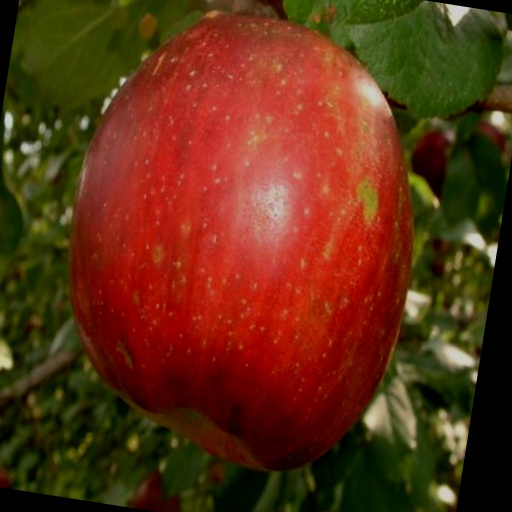fruit: (70, 14, 412, 470), (412, 131, 450, 196), (133, 472, 164, 511), (478, 120, 506, 152), (207, 462, 225, 486), (157, 497, 181, 512), (0, 469, 11, 488)
